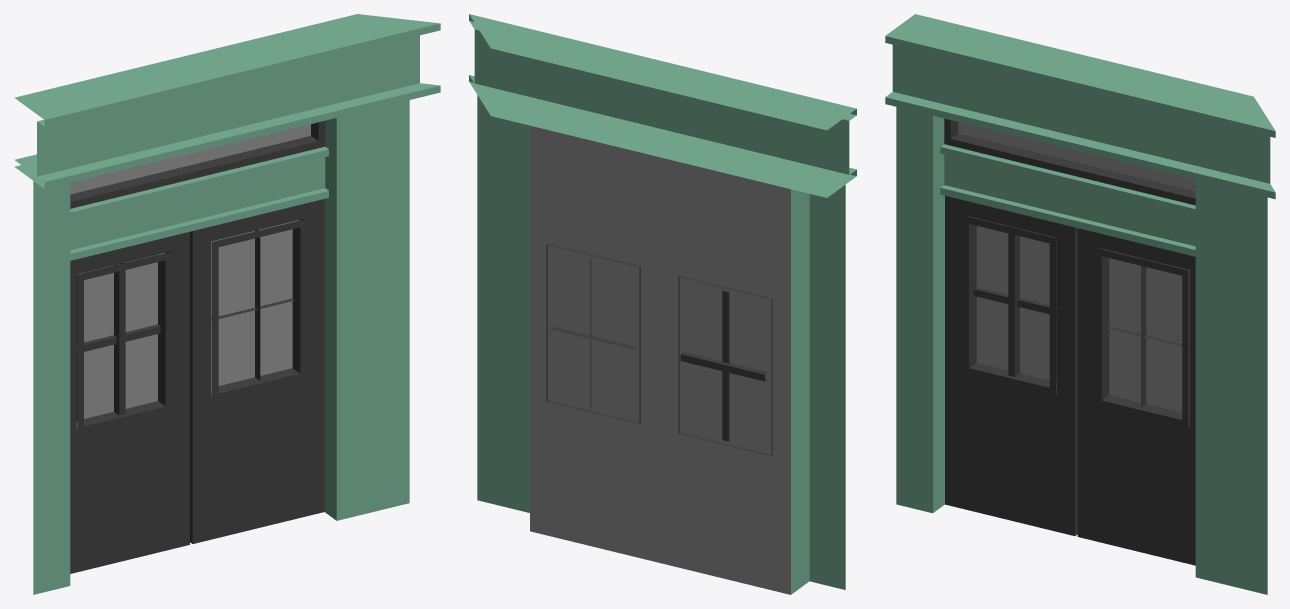
File: object_B2_Ground_floor_corner.glb
3 renders of one model, left to right at view 1: azimuth 30°, elevation 25°; view 2: azimuth 150°, elevation 25°; view 3: azimuth 330°, elevation 25°, orthographic. The views are drawn at different scales.
Parts seen in each view (by area): view 1: B2 Ground floor corner; view 2: B2 Ground floor corner; view 3: B2 Ground floor corner.
Boxes of the visible parts, <box> form: B2 Ground floor corner: <box>14,14,440,594</box>; B2 Ground floor corner: <box>469,14,856,594</box>; B2 Ground floor corner: <box>885,14,1275,594</box>.
Bounding box in the file's own units: 3 × 3.5 × 0.4439.
